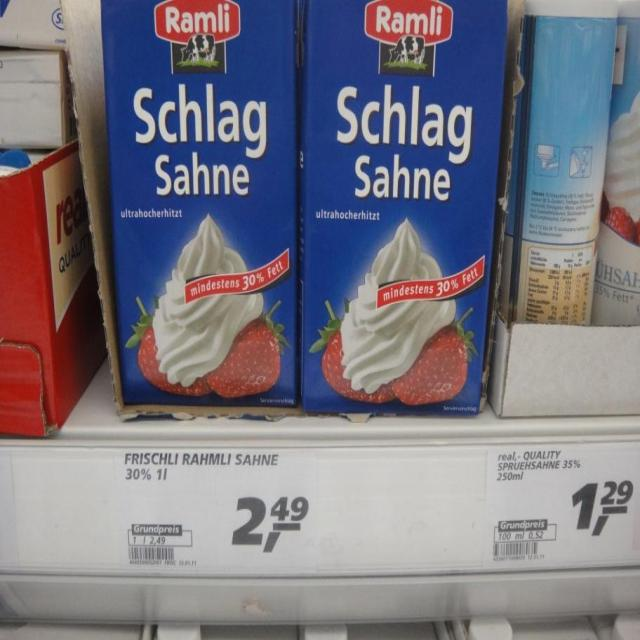Cream: (300, 0, 505, 415), (102, 0, 297, 408), (501, 0, 619, 325), (593, 0, 640, 326)
